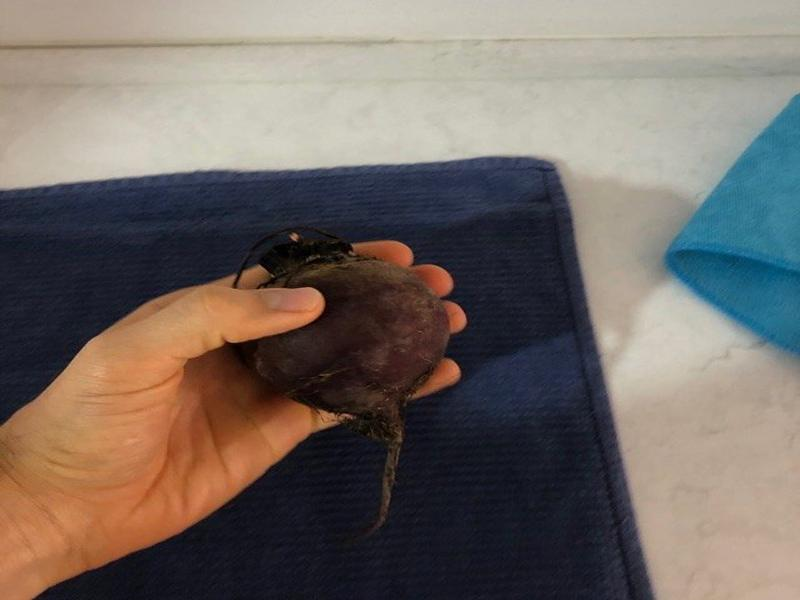Beet: (230, 229, 448, 536)
